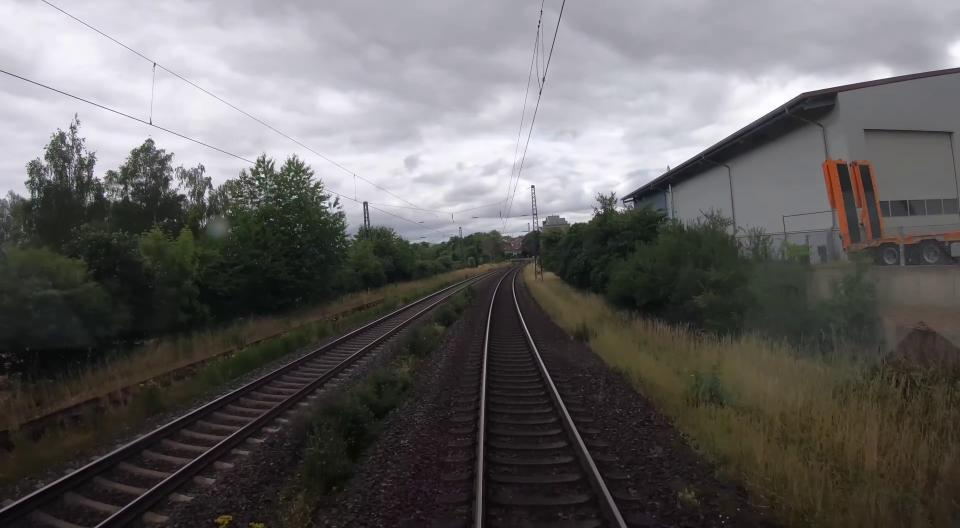Plant: (0, 275, 464, 486), (301, 363, 418, 496), (406, 286, 476, 359), (677, 485, 700, 508)
